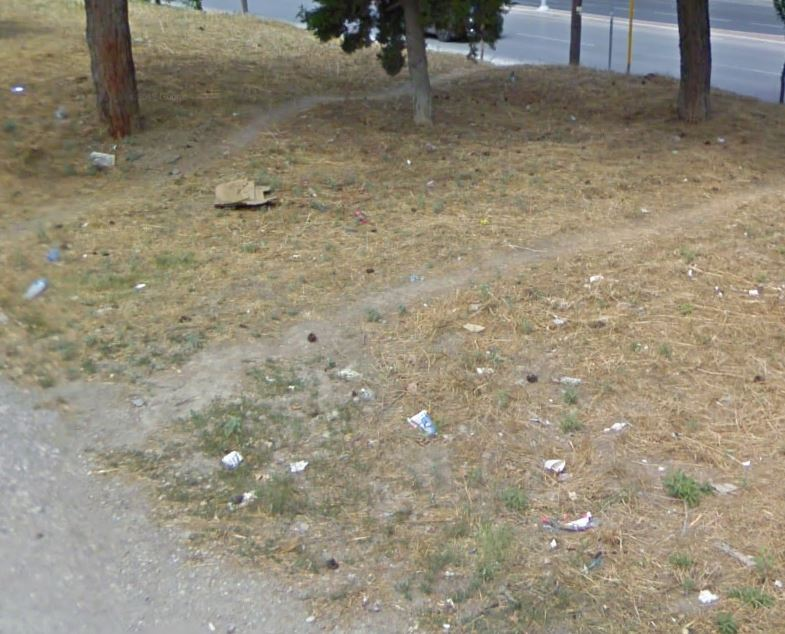trash: (215, 431, 321, 518), (531, 430, 604, 551), (212, 158, 278, 215), (17, 245, 69, 304), (406, 398, 437, 449), (80, 146, 119, 171), (4, 77, 34, 98)
